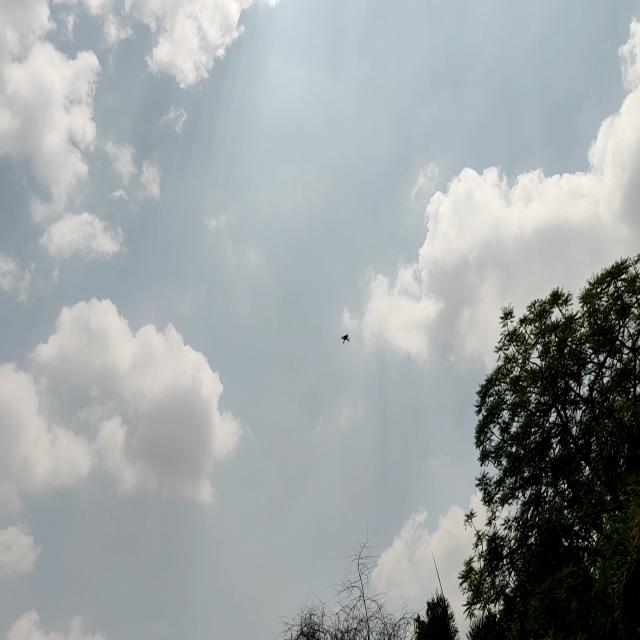drone: (339, 327, 354, 348)
